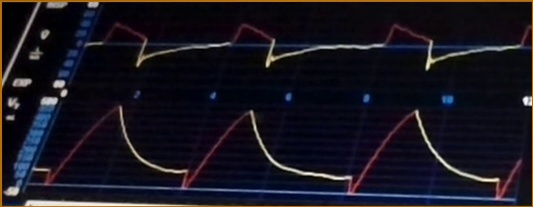Flow: (94, 14, 533, 74)
Leakage Volume: (35, 105, 522, 201)
